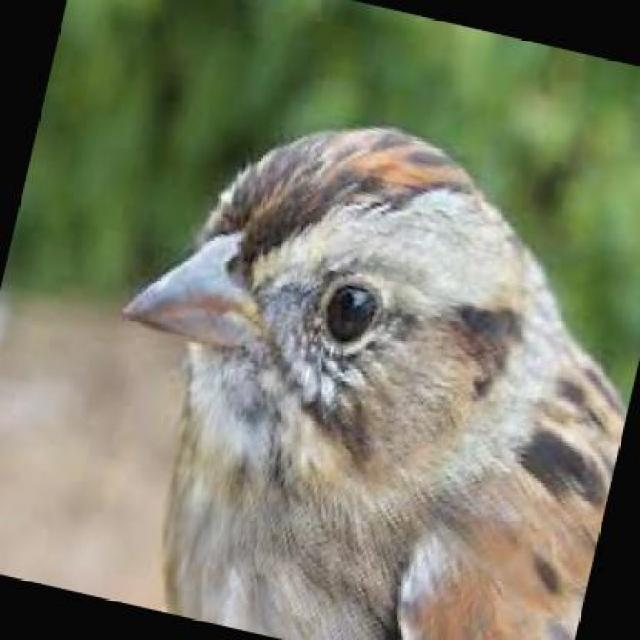Bird: (116, 122, 625, 632)
